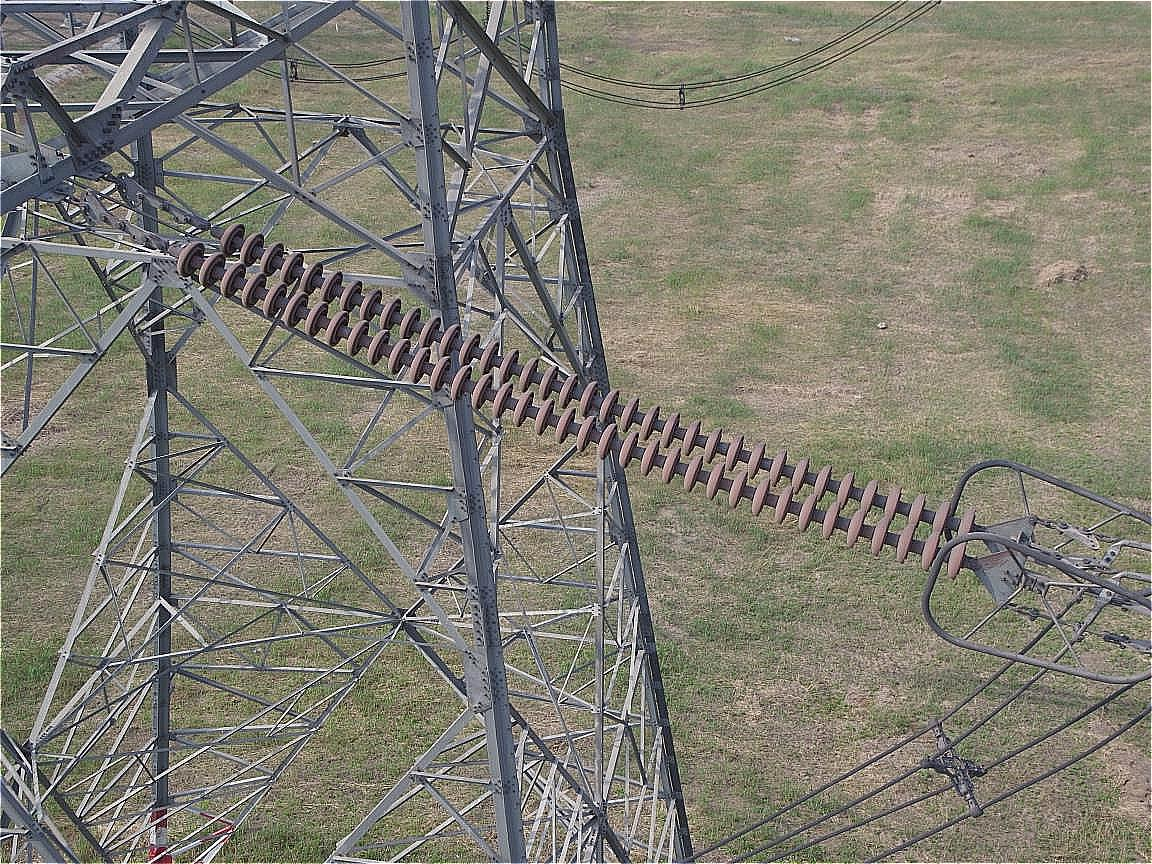insultor1: (172, 203, 1005, 599)
